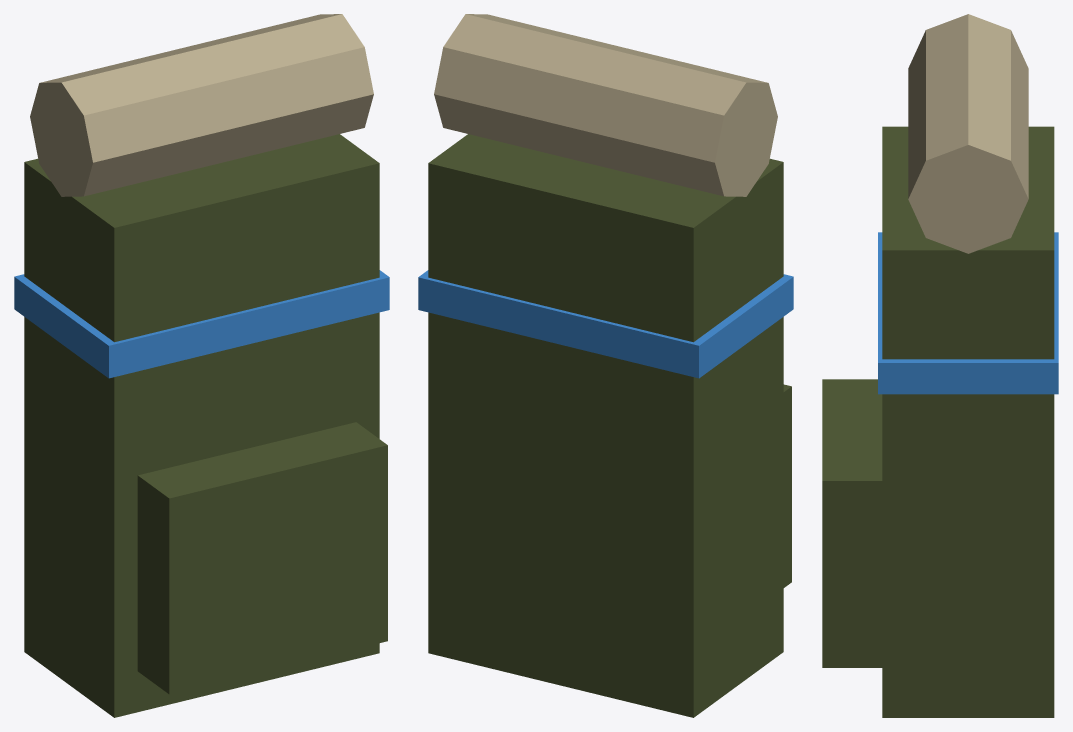
File: backpack_lv2.glb
3 renders of one model, left to right at view 1: azimuth 30°, elevation 25°; view 2: azimuth 150°, elevation 25°; view 3: azimuth 270°, elevation 25°, orthographic. The views are drawn at different scales.
Parts seen in each view (by area): view 1: model; view 2: model; view 3: model.
Boxes of the visible parts, x1,y1,x2,y2 form: model: (14,14,389,717); model: (418,14,793,717); model: (822,14,1058,717).
Size of the model in its own units: 0.36 by 0.74 by 0.275.
